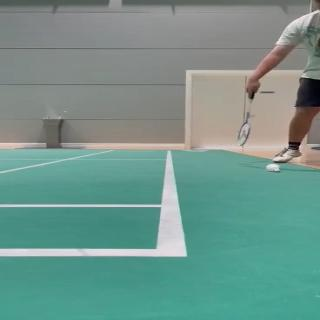Shuttle: (265, 163, 281, 173)
